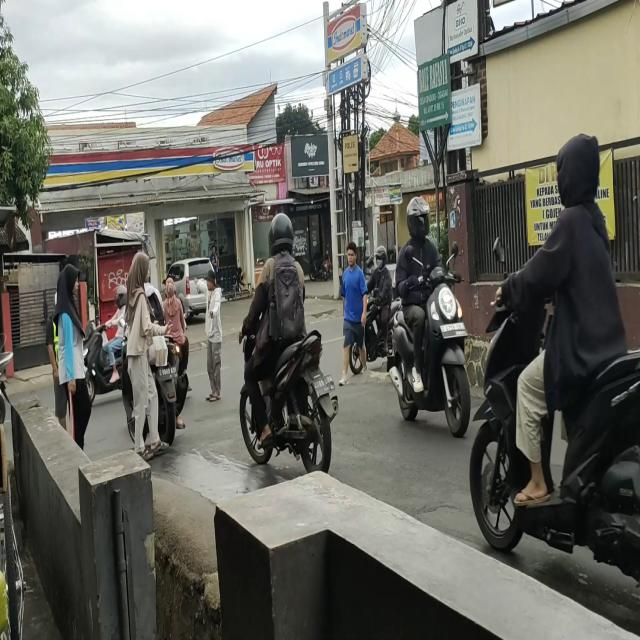helmet: (406, 195, 431, 244), (268, 211, 294, 258), (373, 245, 388, 271), (112, 284, 127, 305)
no-helmet: (557, 136, 601, 205), (165, 276, 177, 299)
